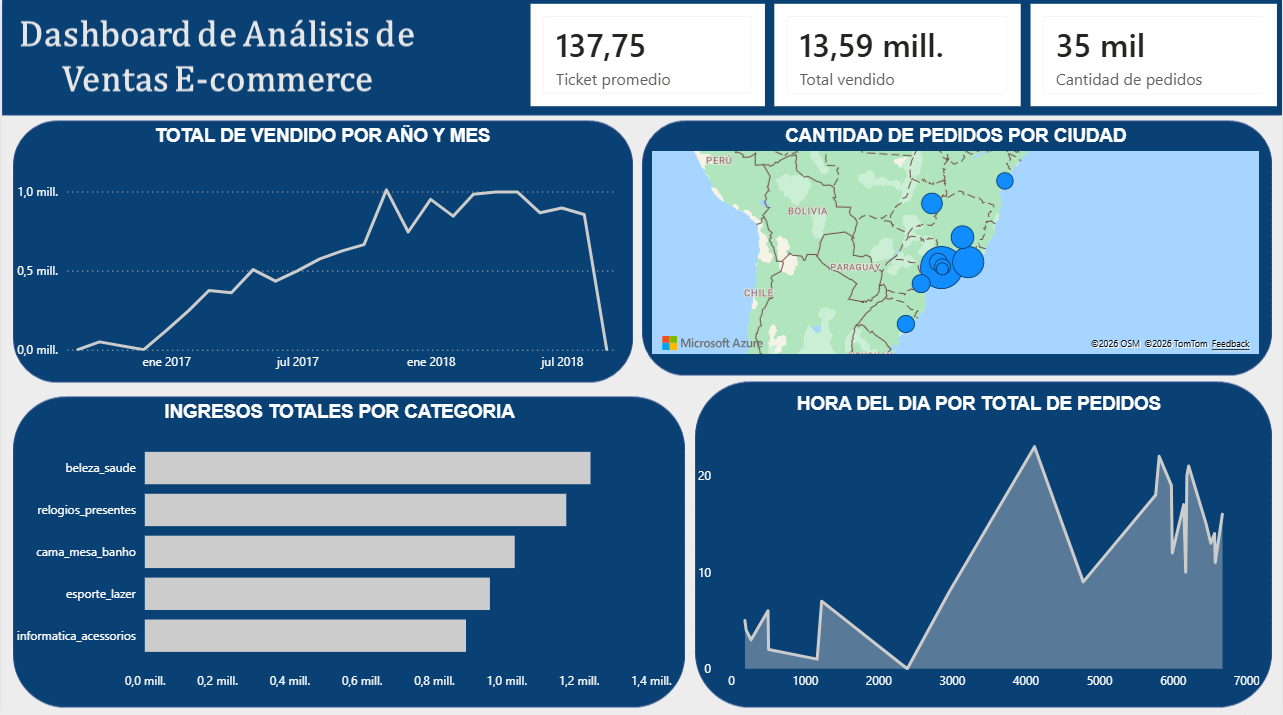

The dashboard page shown, as its layout file describes it:
{"tool":"powerbi","page":{"name":"Página 1","canvas":[1280,720],"ordinal":0},"visuals":[{"type":"lineChart","title":"TOTAL DE VENDIDO POR AÑO Y MES","fields":{"Y":["Sum(Consulta1.total_vendido)"],"Category":["Consulta1.mes.Variación.Jerarquía de fechas.Año","Consulta1.mes.Variación.Jerarquía de fechas.Mes"]},"box":[10.5,126.7,620.9,254.7],"z":0},{"type":"clusteredBarChart","title":"SUMA DE INGRESOS TOTALES POR CATEGORIA","fields":{"Y":["Sum(Consulta2.ingresos_totales)"],"Category":["Consulta2.categoria"]},"box":[0,402.3,674.4,297.7],"z":1000},{"type":"cardVisual","fields":{"Data":["Sum(Consulta3.ticket_promedio)"]},"box":[523.3,0,244.2,112.8],"z":2000},{"type":"azureMap","title":"CANTIDAD DE PEDIDOS POR CIUDAD","fields":{"Category":["Consulta4.ciudad"],"Size":["Sum(Consulta4.cantidad_pedidos)"]},"box":[645.4,126.7,617.4,233.7],"z":3000},{"type":"stackedAreaChart","title":"HORA DEL DIA POR TOTAL DE PEDIDOS ","fields":{"Y":["Sum(Consulta5.hora_del_dia)"],"Category":["Consulta5.total_pedidos"]},"box":[698.8,381.4,564,338.4],"z":4000},{"type":"cardVisual","fields":{"Data":["Sum(Consulta1.total_vendido)"]},"box":[767.1,0,256.6,112.5],"z":5000},{"type":"cardVisual","fields":{"Data":["Sum(Consulta4.cantidad_pedidos)"]},"box":[1023.3,0,257,112.8],"z":6000}]}

Visuals, with their boxes in screenshot pixels (x1, y1, x2, y2), scaled from the page's 1280x720 canvas onto the 1283x715 screenshot:
"TOTAL DE VENDIDO POR AÑO Y MES" lineChart: [left=11, top=126, right=633, bottom=379]
"SUMA DE INGRESOS TOTALES POR CATEGORIA" clusteredBarChart: [left=0, top=400, right=676, bottom=695]
cardVisual - Sum(Consulta3.ticket_promedio): [left=525, top=0, right=769, bottom=112]
"CANTIDAD DE PEDIDOS POR CIUDAD" azureMap: [left=647, top=126, right=1266, bottom=358]
"HORA DEL DIA POR TOTAL DE PEDIDOS " stackedAreaChart: [left=700, top=379, right=1266, bottom=714]
cardVisual - Sum(Consulta1.total_vendido): [left=769, top=0, right=1026, bottom=112]
cardVisual - Sum(Consulta4.cantidad_pedidos): [left=1026, top=0, right=1282, bottom=112]
